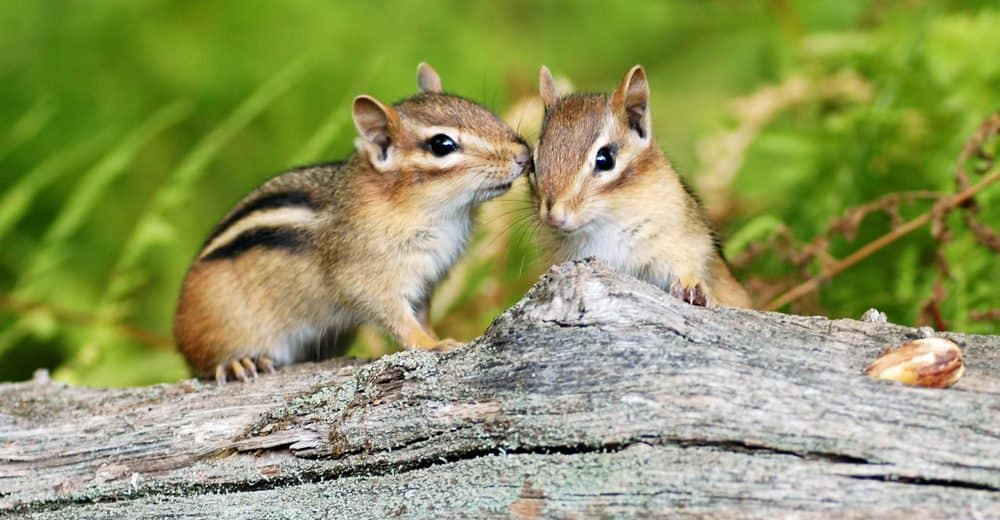Ardilla: (173, 56, 531, 396), (534, 54, 765, 317)
